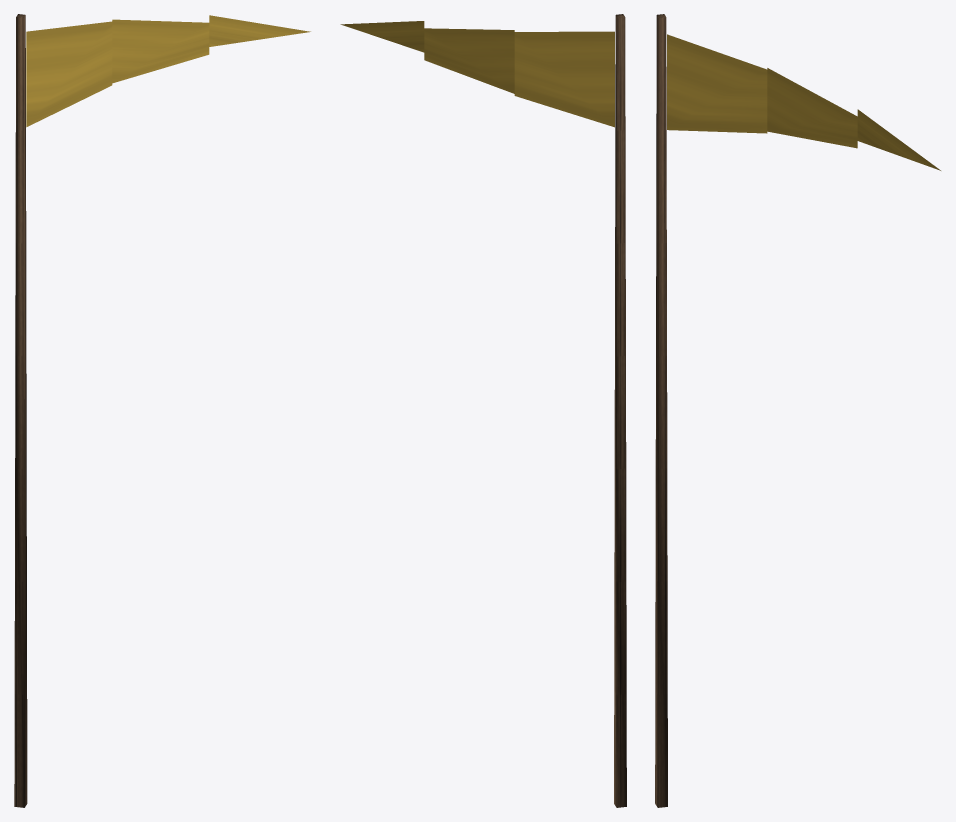
The model's file is Pennant_Pole_1_LOD1.gltf.
The picture shows the model from 3 angles, left to right: view 1: azimuth 30°, elevation 25°; view 2: azimuth 150°, elevation 25°; view 3: azimuth 330°, elevation 25°; orthographic projection.
Visible parts, largest first — view 1: Pennant_Pole_1_LOD1; view 2: Pennant_Pole_1_LOD1; view 3: Pennant_Pole_1_LOD1.
Part boxes in pixels (x1=…): Pennant_Pole_1_LOD1: x1=14, y1=14, x2=310, y2=807; Pennant_Pole_1_LOD1: x1=340, y1=14, x2=626, y2=807; Pennant_Pole_1_LOD1: x1=655, y1=14, x2=940, y2=807.
Bounding box in the file's own units: 2.71 × 7 × 0.1982.
2 materials, 2 textured.
